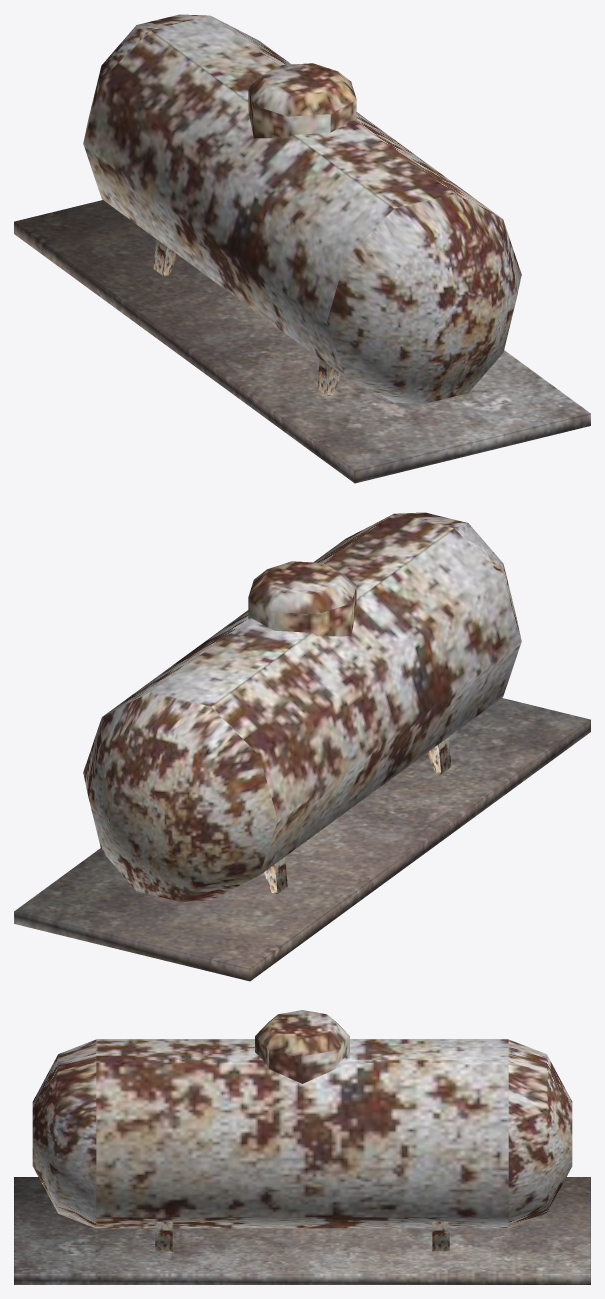
The model's file is propanetank.glb.
The picture shows the model from 3 angles, top to bottom: view 1: azimuth 30°, elevation 25°; view 2: azimuth 150°, elevation 25°; view 3: azimuth 270°, elevation 25°; orthographic projection. The views are drawn at different scales.
Visible parts, largest first — view 1: PropaneTank; view 2: PropaneTank; view 3: PropaneTank.
Part boxes in pixels (bbox=[...]): PropaneTank: bbox=[14, 14, 590, 483]; PropaneTank: bbox=[14, 512, 590, 981]; PropaneTank: bbox=[14, 1010, 590, 1284].
Size of the model in its own units: 2 by 2.02 by 5.
1 material, 1 textured.
